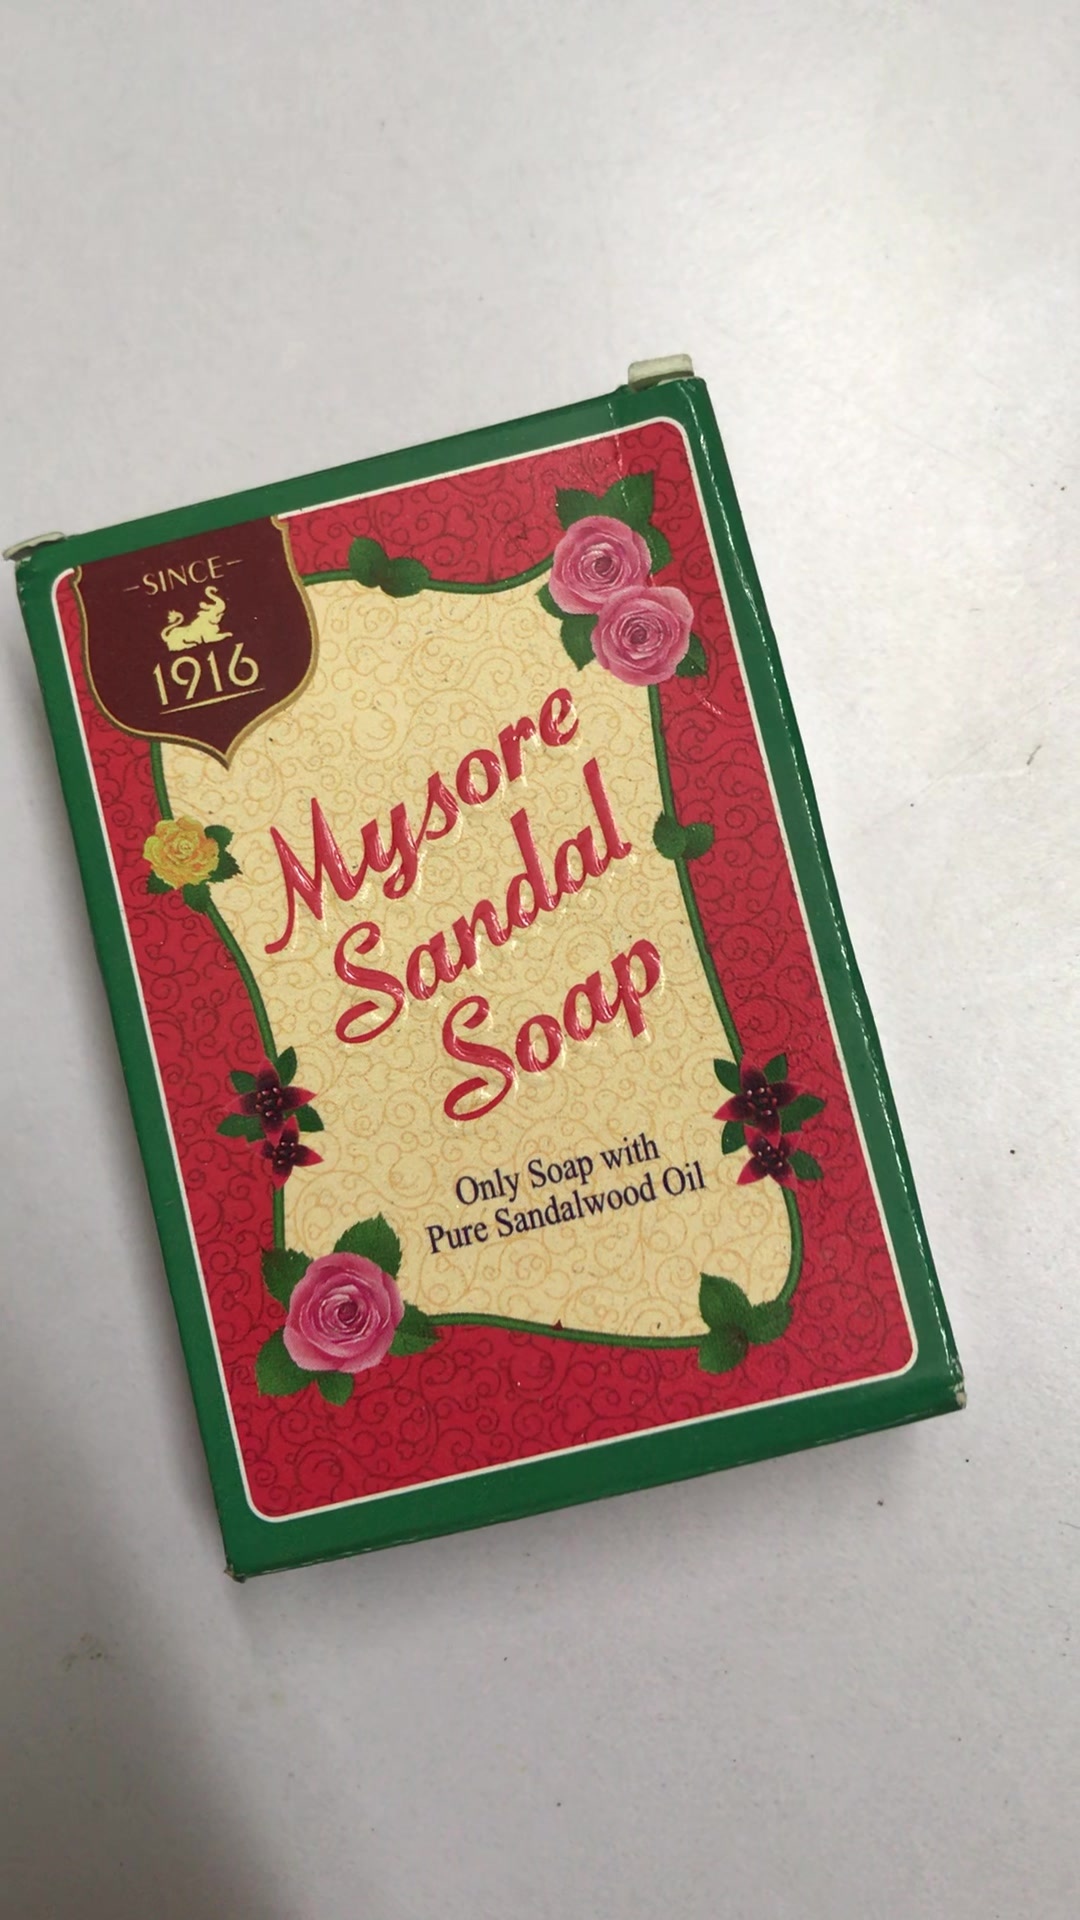mysore sandal soap: (18, 378, 975, 1578)
